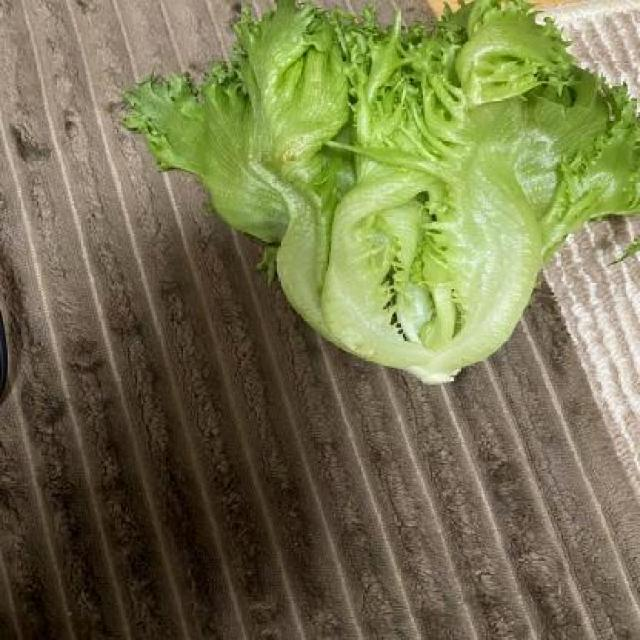Lettuce: (114, 0, 640, 388)
